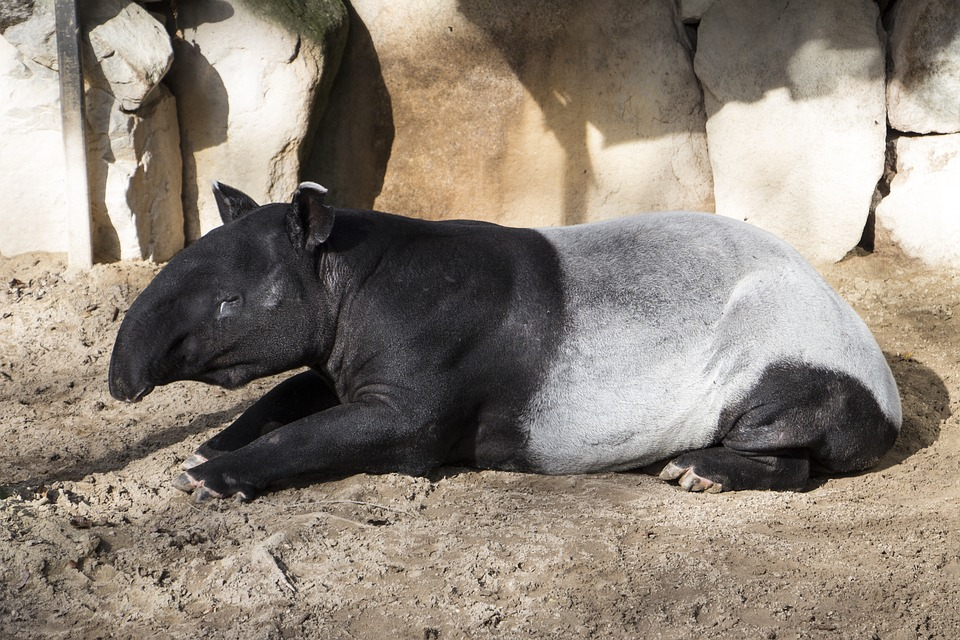Anta: (98, 169, 917, 519)
